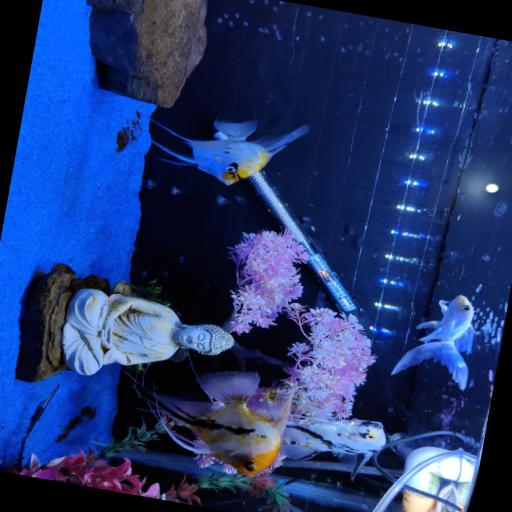Fish: (156, 372, 292, 475), (149, 119, 308, 184), (391, 295, 473, 389), (279, 411, 385, 479)
